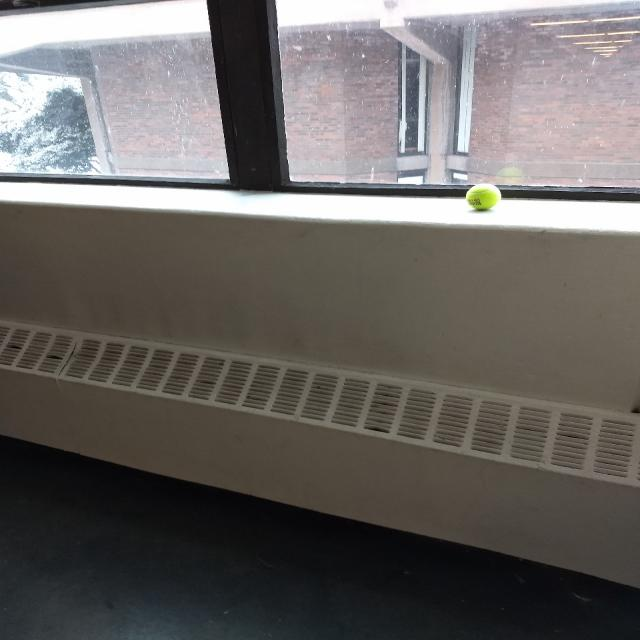Tennis-Ball: (457, 177, 505, 216)
